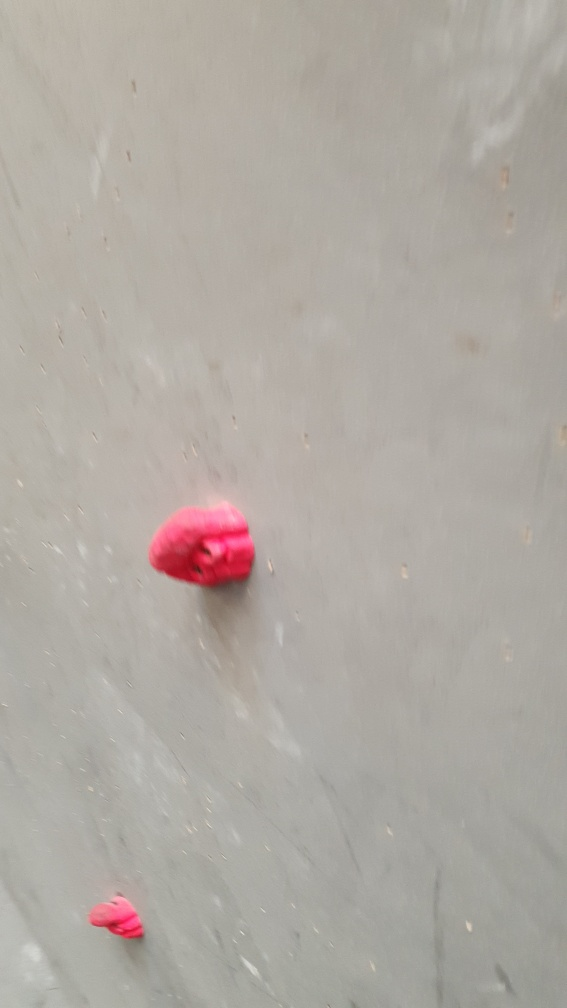Jug: (147, 498, 263, 591), (86, 886, 147, 943)
